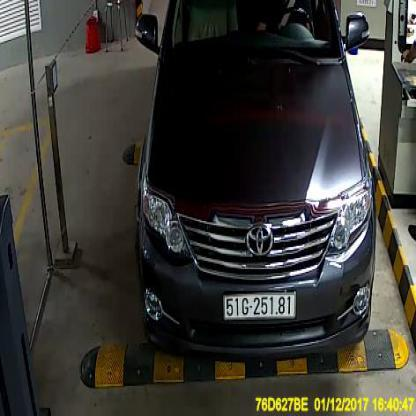biensoxe: (224, 292, 296, 322)
